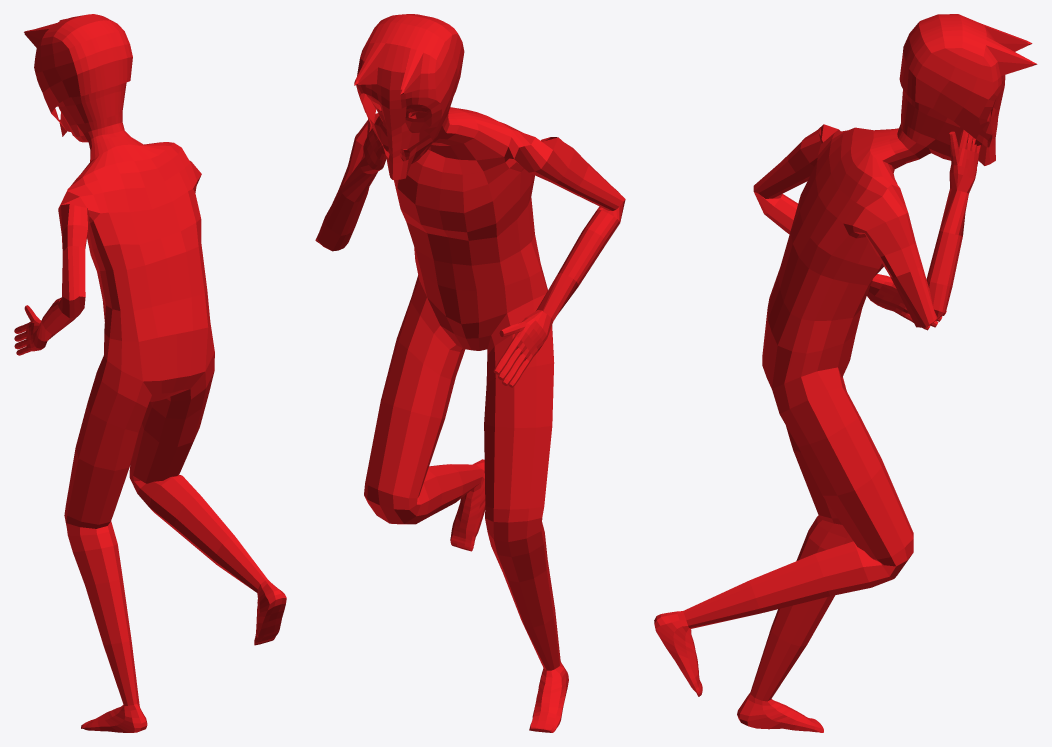
File: correrE_000085.obj
The picture shows the model from 3 angles, left to right: view 1: azimuth 30°, elevation 25°; view 2: azimuth 150°, elevation 25°; view 3: azimuth 270°, elevation 25°; orthographic projection. The views are drawn at different scales.
Visible parts, largest first — view 1: Plane.002_Plane.001; view 2: Plane.002_Plane.001; view 3: Plane.002_Plane.001.
Boxes of the visible parts, x1,y1,x2,y2 form: Plane.002_Plane.001: [14, 14, 286, 732]; Plane.002_Plane.001: [315, 14, 625, 732]; Plane.002_Plane.001: [654, 14, 1037, 732].
Bounding box in the file's own units: 2.1 × 6.62 × 3.12.
